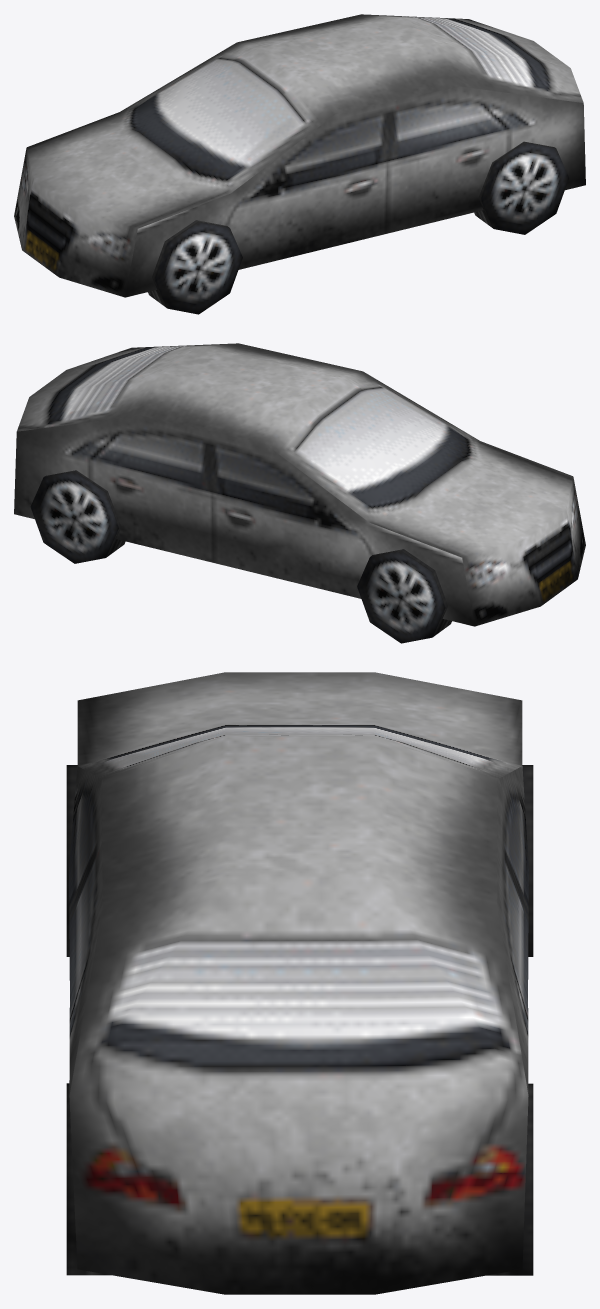
The model's file is car2.fbx.
The picture shows the model from 3 angles, top to bottom: view 1: azimuth 30°, elevation 25°; view 2: azimuth 150°, elevation 25°; view 3: azimuth 270°, elevation 25°; orthographic projection. The views are drawn at different scales.
Parts seen in each view (by area): view 1: car2; view 2: car2; view 3: car2.
Part boxes in pixels (<box>): car2: <box>14,14,585,314</box>; car2: <box>14,343,585,643</box>; car2: <box>66,672,533,1294</box>.
Bounding box in the file's own units: 467 × 183 × 152.
1 material, 1 textured.
